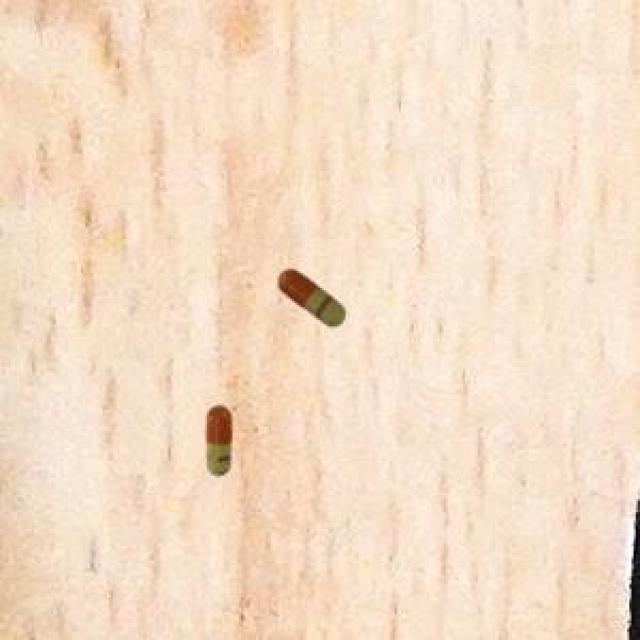Alaxan: (270, 258, 356, 334), (198, 390, 238, 481)
